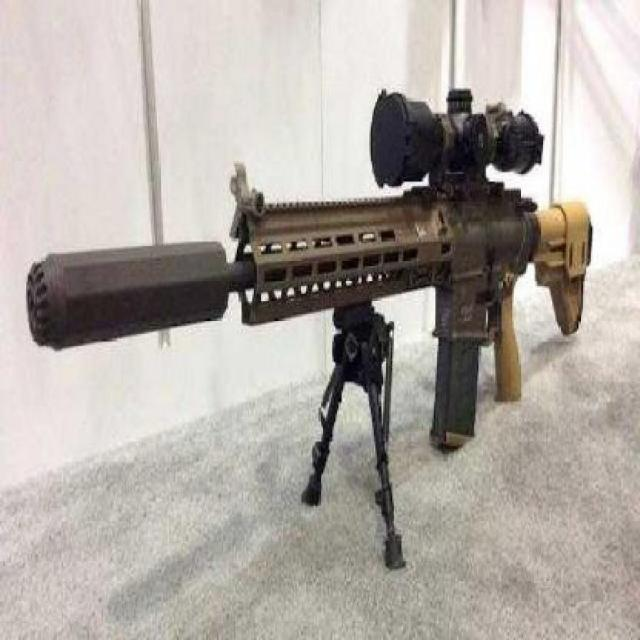weapon: (54, 104, 589, 452)
